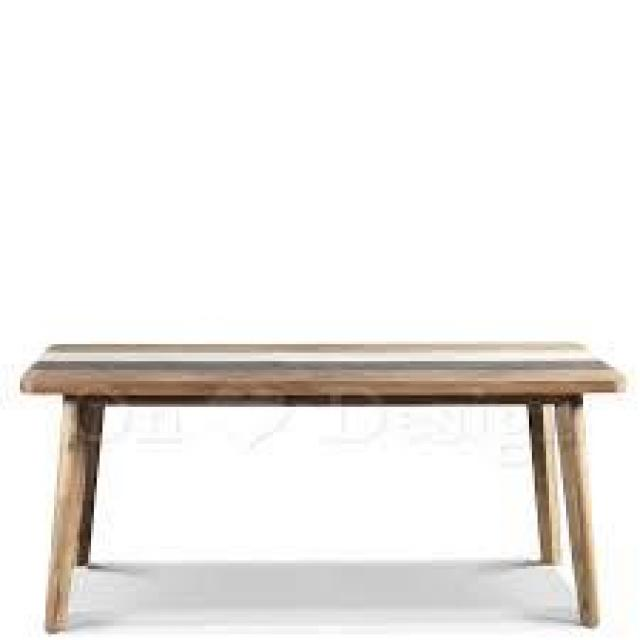table: (20, 269, 617, 613)
